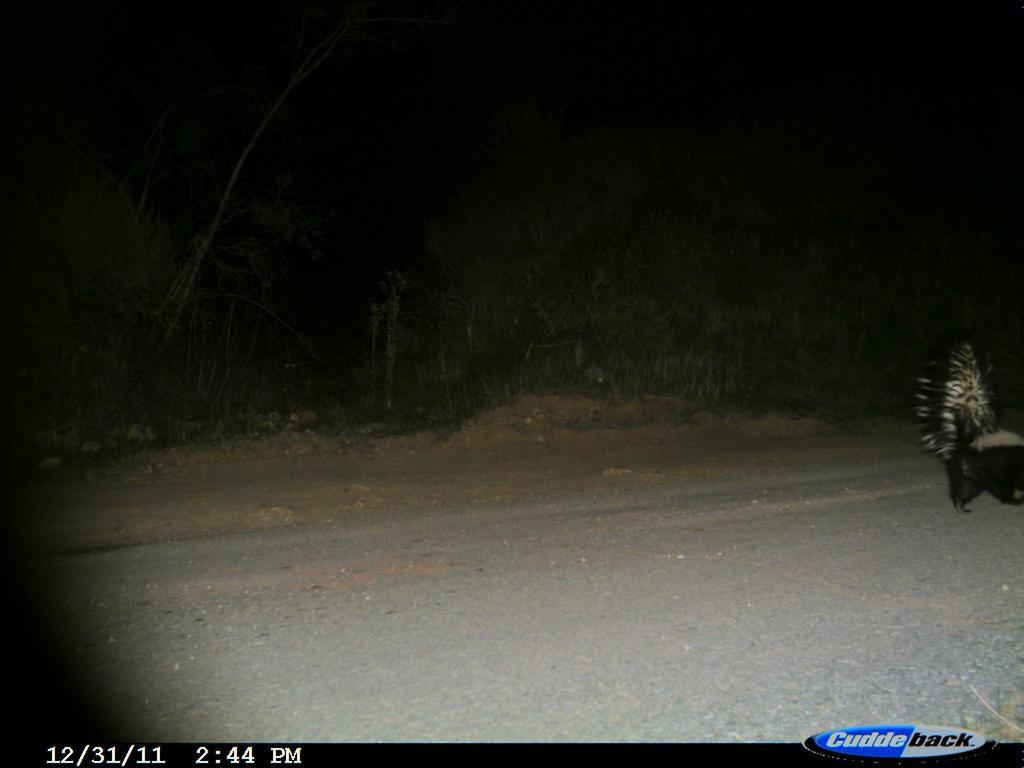skunk: (907, 327, 1022, 528)
